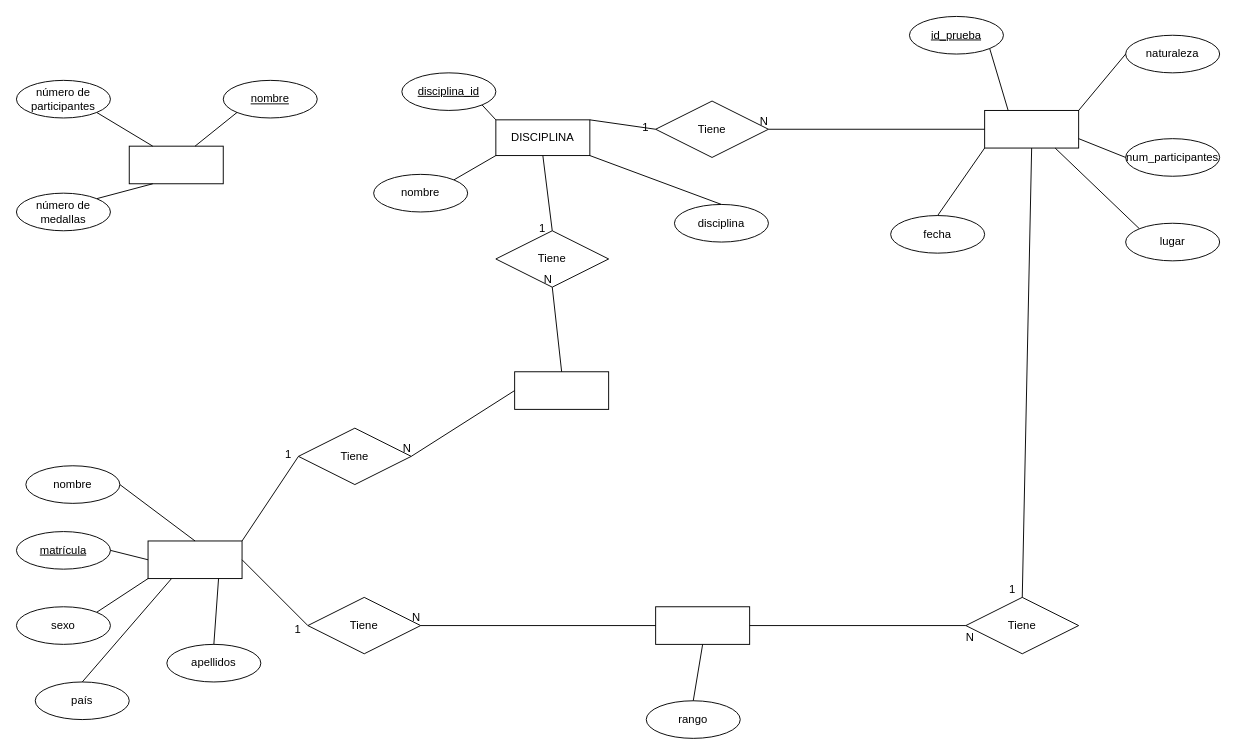
The diagram is 1236 pixels wide and 755 high, and some of its shapes have lost their labels. The shapes that lost their labels are listed below. From the top down, each one's centre as x and y in pixels, then its label:
At point 1031,129: "PRUEBA".
At point 175,164: "PAIS".
At point 561,390: "RESULTADO".
At point 194,559: "DEPORTISTA".
At point 702,625: "CLASIFICACIÓN".
